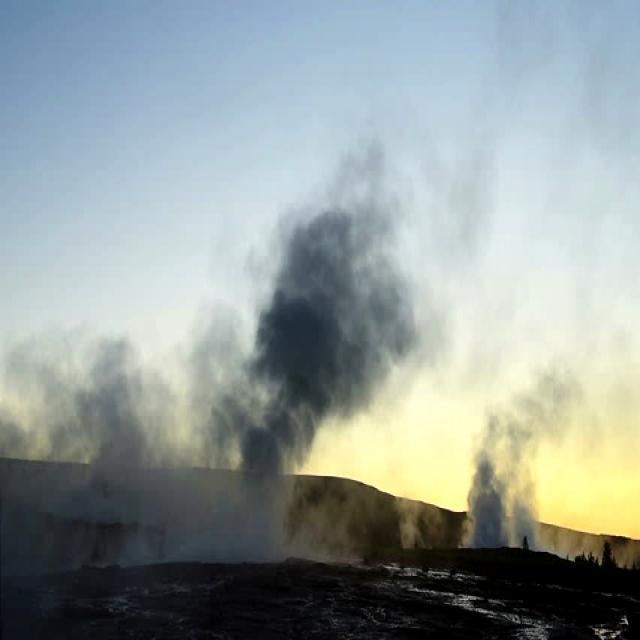Smoke: (0, 348, 297, 578), (245, 101, 442, 426), (470, 358, 568, 543)
